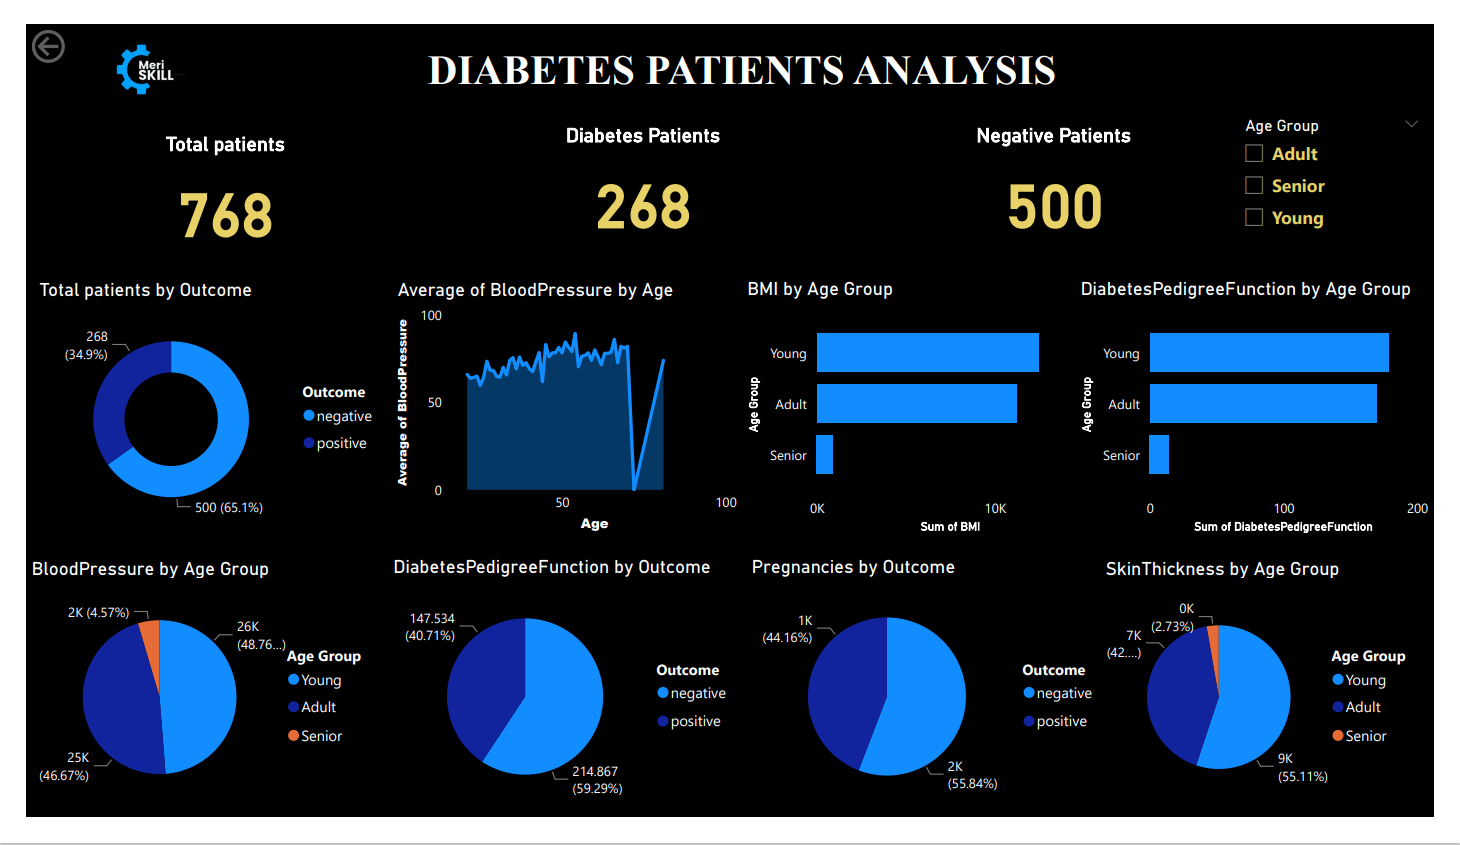

This screenshot's page, from the dashboard's own definition file:
{"tool":"powerbi","page":{"name":"Page 1","canvas":[1280,720],"ordinal":0},"visuals":[{"type":"donutChart","fields":{"Category":["diabetes1.Outcome"],"Y":["diabetes1.Total patients"]},"box":[7.1,230.5,326.3,236.7],"z":0},{"type":"stackedAreaChart","fields":{"Category":["diabetes1.Age"],"Y":["Avg(diabetes1.BloodPressure)"]},"box":[333.4,231.4,317.4,235.9],"z":1000},{"type":"slicer","fields":{"Values":["diabetes1.Age Group"]},"box":[1095.7,79.3,183.7,134.8],"z":2000},{"type":"actionButton","box":[0,0,100,40],"z":3000},{"type":"clusteredBarChart","title":"BMI by Age Group","fields":{"Category":["diabetes1.Age Group"],"Y":["Sum(diabetes1.BMI)"]},"box":[651,230.1,326,236.4],"z":4000},{"type":"clusteredBarChart","title":"DiabetesPedigreeFunction by Age Group","fields":{"Category":["diabetes1.Age Group"],"Y":["Sum(diabetes1.DiabetesPedigreeFunction)"]},"box":[953.7,230.1,326,236.4],"z":5000},{"type":"pieChart","title":"BloodPressure by Age Group","fields":{"Category":["diabetes1.Age Group"],"Y":["Sum(diabetes1.BloodPressure)"]},"box":[0,483.7,329.3,235.9],"z":6000},{"type":"pieChart","title":"DiabetesPedigreeFunction by Outcome","fields":{"Y":["Sum(diabetes1.DiabetesPedigreeFunction)"],"Category":["diabetes1.Outcome"]},"box":[329,483.3,326.3,236.7],"z":7000},{"type":"pieChart","title":"Pregnancies by Outcome","fields":{"Category":["diabetes1.Outcome"],"Y":["Sum(diabetes1.Pregnancies)"]},"box":[655.3,483.3,332.5,236.7],"z":8000},{"type":"pieChart","title":"SkinThickness by Age Group","fields":{"Category":["diabetes1.Age Group"],"Y":["Sum(diabetes1.SkinThickness)"]},"box":[977.2,483.7,302.2,235.9],"z":9000},{"type":"card","title":"Total patients","fields":{"Values":["diabetes1.Total patients"]},"box":[0,87.9,359.6,134.3],"z":10000},{"type":"card","title":"Diabetes Patients","fields":{"Values":["Sum(diabetes1.NumericOutcome)"]},"box":[360,79.8,399.9,133.9],"z":11000},{"type":"card","title":"Negative Patients","fields":{"Values":["diabetes1.Total Negative Outcomes"]},"box":[759.9,79.8,346.7,133.9],"z":12000},{"type":"image","box":[26.3,0,181.8,87.9],"z":12001},{"type":"textbox","title":"DIABETES PATIENTS ANALYSIS","box":[196,20.2,910.1,46.5],"z":12002}]}

Visuals, with their boxes in screenshot pixels (x1, y1, x2, y2), scaled from the page's 1280x720 canvas onto the 1460x845 screenshot:
donutChart - diabetes1.Outcome x diabetes1.Total patients: locate(8, 271, 380, 548)
stackedAreaChart - diabetes1.Age x Avg(diabetes1.BloodPressure): locate(380, 272, 742, 548)
slicer - diabetes1.Age Group: locate(1250, 93, 1459, 251)
actionButton: locate(0, 0, 114, 47)
"BMI by Age Group" clusteredBarChart: locate(743, 270, 1114, 547)
"DiabetesPedigreeFunction by Age Group" clusteredBarChart: locate(1088, 270, 1459, 547)
"BloodPressure by Age Group" pieChart: locate(0, 568, 376, 844)
"DiabetesPedigreeFunction by Outcome" pieChart: locate(375, 567, 747, 844)
"Pregnancies by Outcome" pieChart: locate(747, 567, 1127, 844)
"SkinThickness by Age Group" pieChart: locate(1115, 568, 1459, 844)
"Total patients" card: locate(0, 103, 410, 261)
"Diabetes Patients" card: locate(411, 94, 867, 251)
"Negative Patients" card: locate(867, 94, 1262, 251)
image: locate(30, 0, 237, 103)
"DIABETES PATIENTS ANALYSIS" textbox: locate(224, 24, 1262, 78)
